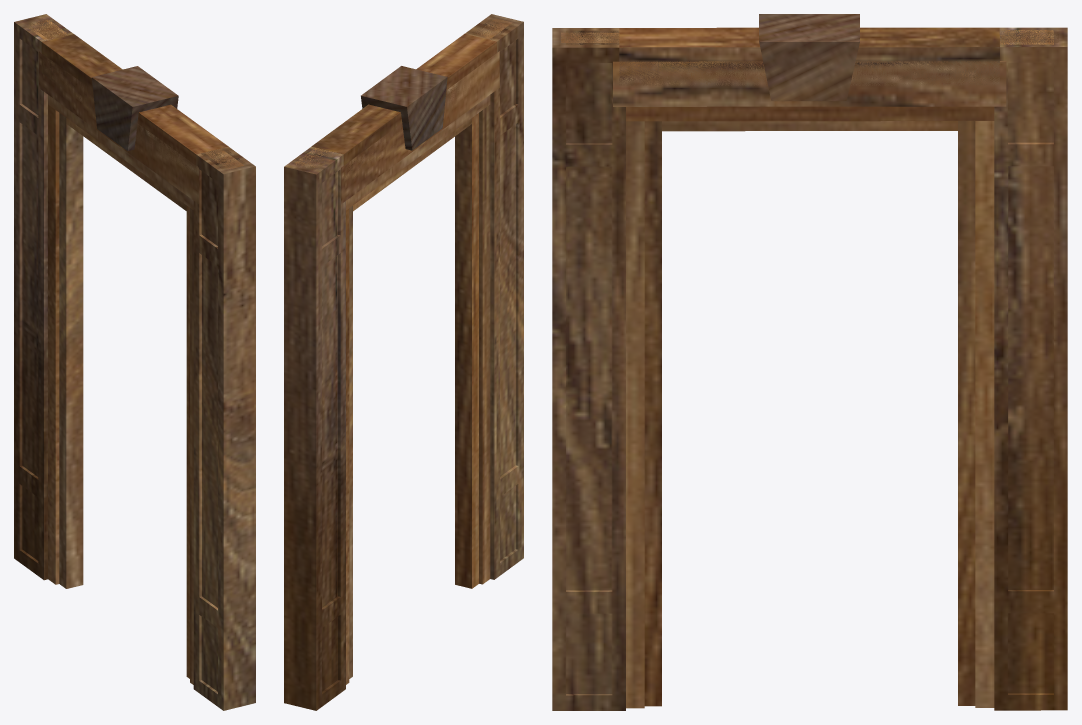
The model's file is encadrement.fbx.
3 renders of one model, left to right at view 1: azimuth 30°, elevation 25°; view 2: azimuth 150°, elevation 25°; view 3: azimuth 270°, elevation 25°, orthographic. The views are drawn at different scales.
Parts seen in each view (by area): view 1: Encadrement; view 2: Encadrement; view 3: Encadrement.
Part boxes in pixels (x1,y1,x2,y2): Encadrement: [14, 14, 255, 710]; Encadrement: [284, 14, 523, 710]; Encadrement: [552, 14, 1067, 710].
Bounding box in the file's own units: 38.75 × 435 × 302.
Materials: 1 (1 with a texture image).
